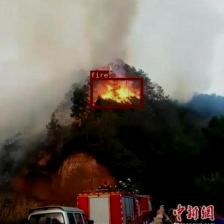fire: (90, 78, 142, 107)
